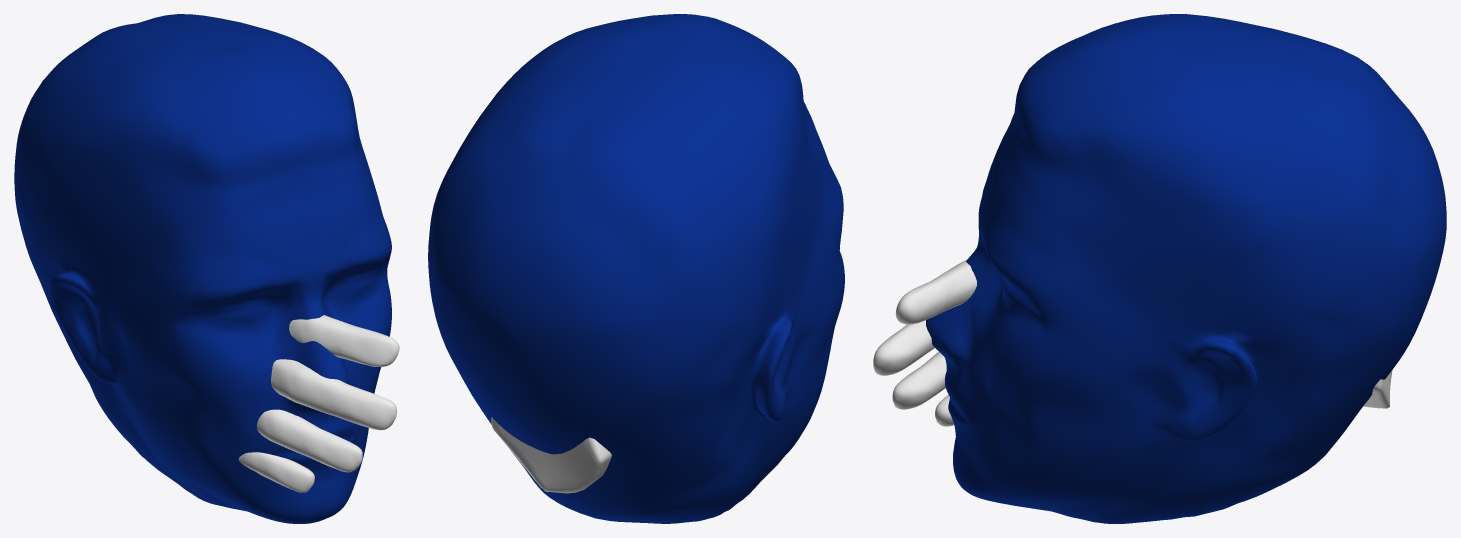
Rendered from avatar3.FBX.
The picture shows the model from 3 angles, left to right: view 1: azimuth 30°, elevation 25°; view 2: azimuth 150°, elevation 25°; view 3: azimuth 270°, elevation 25°; orthographic projection. The views are drawn at different scales.
Parts seen in each view (by area): view 1: glowa, reka; view 2: glowa, reka; view 3: glowa, reka.
Boxes of the visible parts, x1,y1,x2,y2 form: glowa: [14, 14, 391, 523]; reka: [238, 315, 399, 492]; glowa: [428, 14, 844, 523]; reka: [491, 417, 611, 493]; glowa: [926, 14, 1446, 523]; reka: [873, 259, 1392, 426].
Bounding box in the file's own units: 1.74 × 2.51 × 2.78.
